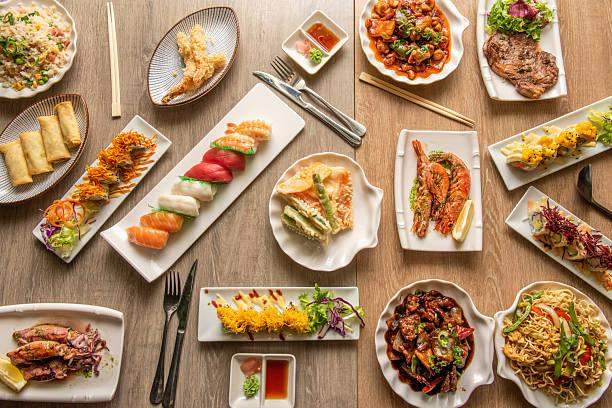Braised Crucian Carp: (80, 72, 325, 304), (16, 105, 183, 280), (0, 70, 125, 248), (491, 279, 612, 406), (376, 277, 495, 406), (495, 180, 611, 311), (268, 150, 377, 269), (1, 301, 125, 403), (488, 90, 609, 190), (393, 130, 482, 252), (475, 0, 568, 103), (146, 5, 239, 108), (358, 0, 465, 86), (196, 285, 358, 341), (0, 0, 78, 99)
